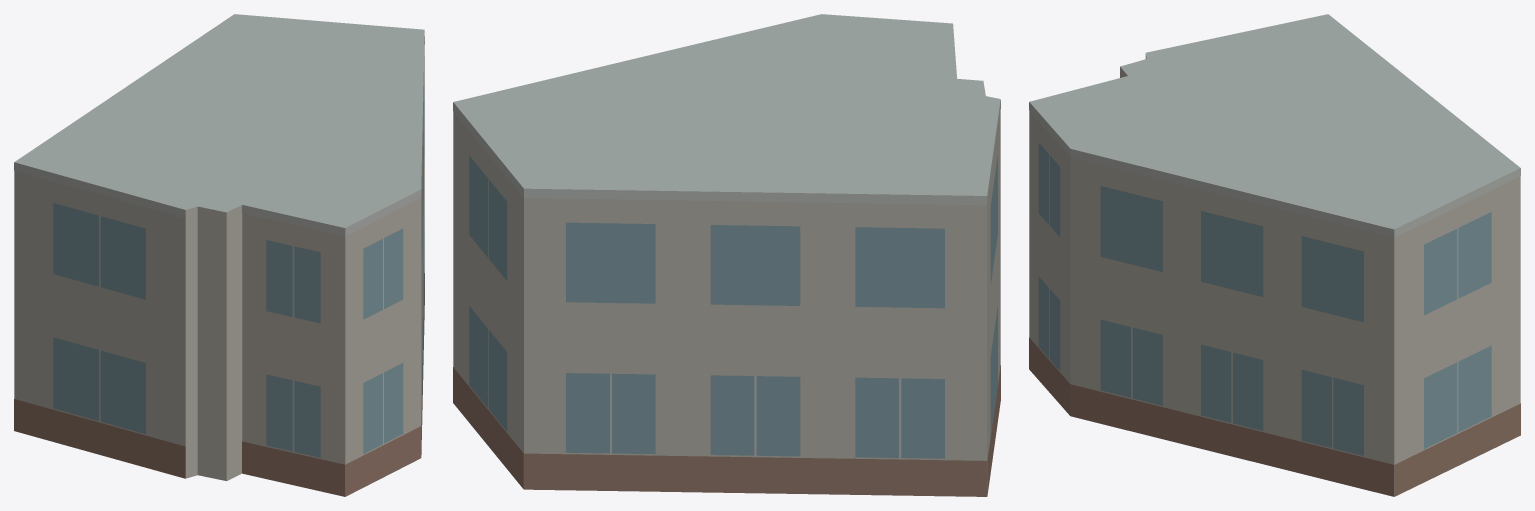
The model's file is survey-upis-32812384.glb.
3 renders of one model, left to right at view 1: azimuth 30°, elevation 25°; view 2: azimuth 150°, elevation 25°; view 3: azimuth 270°, elevation 25°, orthographic. The views are drawn at different scales.
Visible parts, largest first — view 1: survey-upis-32812384.tmp; view 2: survey-upis-32812384.tmp; view 3: survey-upis-32812384.tmp.
Boxes of the visible parts, <box> form: survey-upis-32812384.tmp: <box>14,14,424,496</box>; survey-upis-32812384.tmp: <box>453,14,1000,496</box>; survey-upis-32812384.tmp: <box>1029,14,1520,496</box>.
Size of the model in its own units: 13.66 by 7.9 by 13.17.
